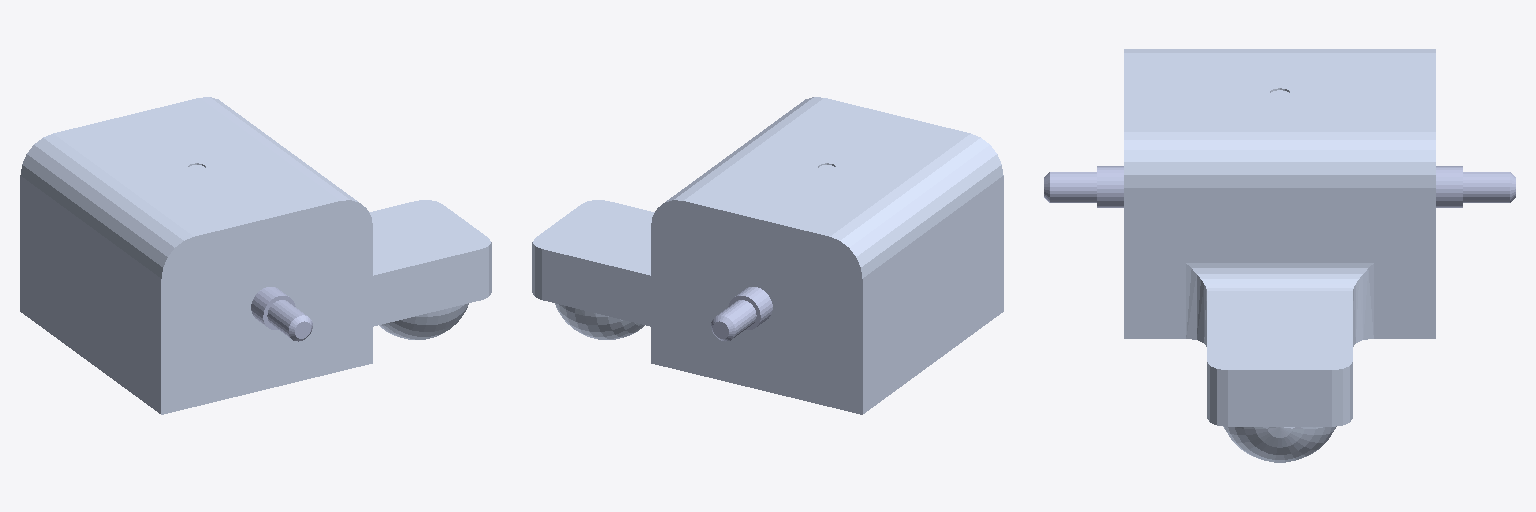
URDF robot description (Omni.SLDASM):
<?xml version="1.0" encoding="utf-8"?>
<!-- This URDF was automatically created by SolidWorks to URDF Exporter! Originally created by Stephen Brawner (brawner@gmail.com) 
     Commit Version: 1.6.0-4-g7f85cfe  Build Version: 1.6.7995.38578
     For more information, please see http://wiki.ros.org/sw_urdf_exporter -->
<robot
  name="Omni.SLDASM">
  <link
    name="base_link">
    <inertial>
      <origin xyz="0.029003 -3.5672E-10 -0.010971" rpy="0 0 0" />
      <mass value="0.2" />
      <inertia
        ixx="0.4918"
        ixy="1.5718E-09"
        ixz="0.098171"
        iyy="0.70475"
        iyz="-3.1392E-10"
        izz="0.85202" />
    </inertial>
    <visual>
      <origin xyz="0 0 0" rpy="0 0 0" />
      <geometry>
        <!-- <mesh filename="package://Omni.SLDASM/meshes/base_link.STL" /> -->
        <mesh filename="meshes/base_link.STL" />
      </geometry>
      <material name="1">
        <color rgba="0.86667 0.9098 1 1" />
      </material>
    </visual>
    <collision>
      <origin xyz="0 0 0" rpy="0 0 0" />
      <geometry>
        <mesh filename="meshes/base_link.STL" />
      </geometry>
    </collision>
  </link>
  <link name="left_Link">
    <inertial>
      <origin xyz="1.1536E-15 -0.32572 -3.09E-18" rpy="0 0 0" />
      <mass value="0.071995" />
      <inertia
        ixx="4.2988E-05"
        ixy="1.1051E-19"
        ixz="3.8933E-22"
        iyy="1.1325E-05"
        iyz="4.5304E-21"
        izz="4.2988E-05" />
    </inertial>
    <visual>
      <origin xyz="0 0 0" rpy="0 0 0" />
      <geometry>
        <mesh filename="meshes/left_Link.STL" />
      </geometry>
      <material name="2">
        <color rgba="0.79216 0.81961 0.93333 1" />
      </material>
    </visual>
    <collision>
      <origin xyz="0 0 0" rpy="0 0 0" />
      <geometry>
        <mesh filename="meshes/left_Link.STL" />
      </geometry>
    </collision>
  </link>
  <joint name="left_joint" type="fixed">
    <origin xyz="0 0.146 0" rpy="0 0 0" />
    <parent link="base_link" />
    <child link="left_Link" />
    <axis xyz="0 0 0" />
  </joint>
  <link name="right_Link">
    <inertial>
      <origin xyz="-1.1198E-15 0.32572 -9.2157E-19" rpy="0 0 0" />
      <mass value="0.071995" />
      <inertia ixx="4.2988E-05" ixy="1.1046E-19" ixz="2.7352E-22" iyy="1.1325E-05" iyz="-3.8659E-21" izz="4.2988E-05" />
    </inertial>
    <visual>
      <origin xyz="0 0 0" rpy="0 0 0" />
      <geometry>
        <mesh filename="meshes/right_Link.STL" />
      </geometry>
      <material
        name="3">
        <color rgba="0.79216 0.81961 0.93333 1" />
      </material>
    </visual>
    <collision>
      <origin xyz="0 0 0" rpy="0 0 0" />
      <geometry>
        <mesh filename="meshes/right_Link.STL" />
      </geometry>
    </collision>
  </link>
  <joint name="right_joint" type="fixed">
    <origin xyz="0 -0.146 0" rpy="0 0 0" />
    <parent link="base_link" />
    <child link="right_Link" />
    <axis xyz="0 0 0" />
  </joint>
</robot>

--- Facts derived from the render (not from the file) ---
3 views of the same robot in one strip: view 1: azimuth 30°, elevation 25°; view 2: azimuth 150°, elevation 25°; view 3: azimuth 270°, elevation 25° (orthographic).
Robot: Omni.SLDASM — 3 links, 2 joints (2 fixed); root link base_link; default pose: all joints at 0.
Visible links, largest first — view 1: base_link, left_Link; view 2: base_link, right_Link; view 3: base_link, left_Link, right_Link.
Link boxes in pixels (bbox=[...]): base_link: bbox=[20, 97, 491, 414]; left_Link: bbox=[251, 287, 312, 341]; base_link: bbox=[532, 97, 1003, 414]; right_Link: bbox=[711, 287, 772, 341]; base_link: bbox=[1124, 49, 1435, 462]; left_Link: bbox=[1044, 166, 1123, 207]; right_Link: bbox=[1436, 166, 1515, 207].
Bounding box of the posed robot: 0.46 × 0.452 × 0.2593 m (x, y, z).
3 mesh visuals loaded from 3 distinct referenced files (3 binary STL).
